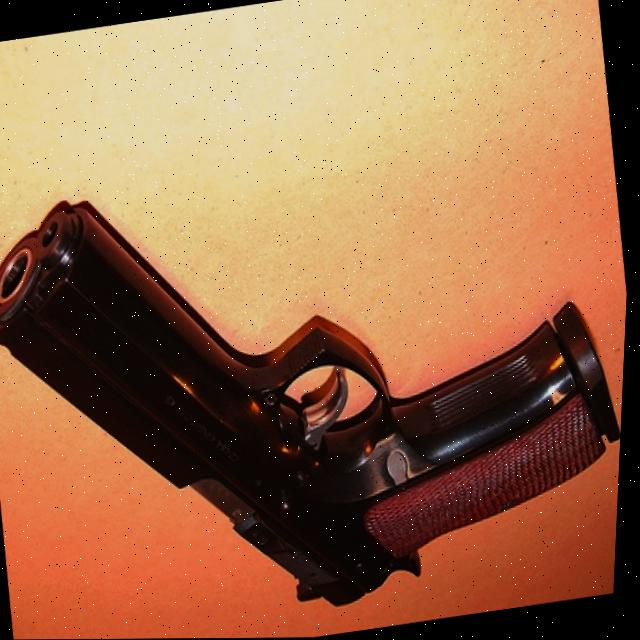pistol: (0, 124, 636, 640)
